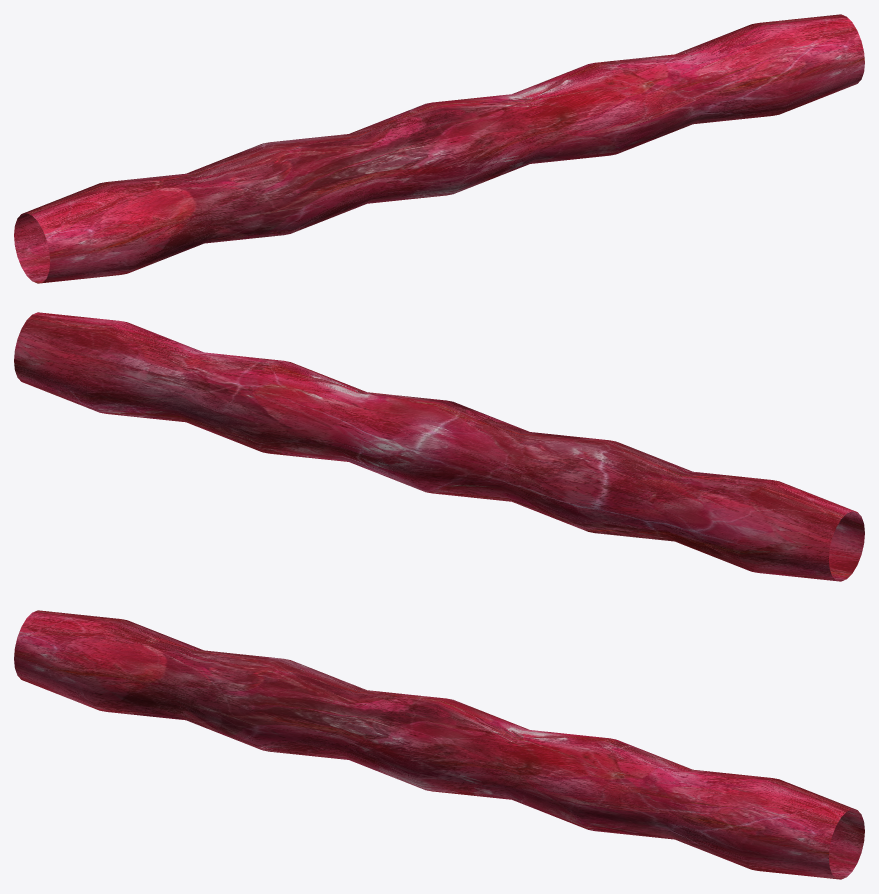
The model's file is vein_animation_draft_3_geo.fbx.
3 views of the same model, one above another, from view 1: azimuth 30°, elevation 25°; view 2: azimuth 150°, elevation 25°; view 3: azimuth 330°, elevation 25° (orthographic).
Visible parts, largest first — view 1: vein_draft_geo; view 2: vein_draft_geo; view 3: vein_draft_geo.
Boxes of the visible parts, x1,y1,x2,y2 form: vein_draft_geo: (14, 14, 864, 283); vein_draft_geo: (14, 312, 864, 581); vein_draft_geo: (14, 610, 864, 879).
Bounding box in the file's own units: 26 × 2.63 × 2.63.
